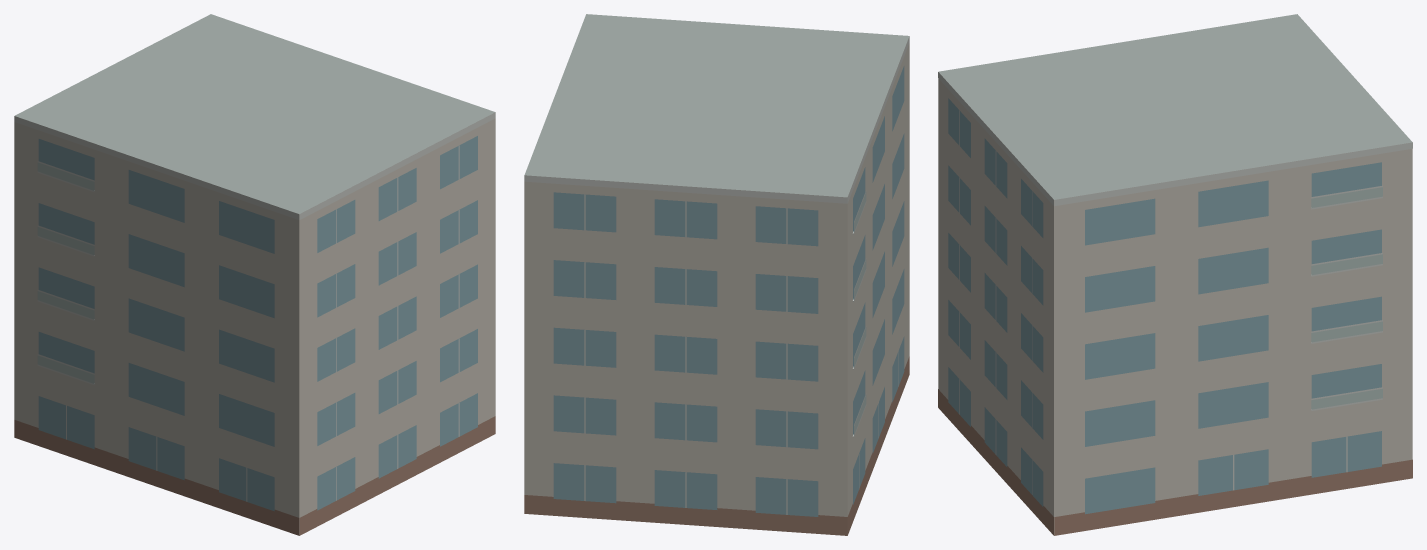
Rendered from survey-upis-32842352.glb.
3 views of the same model, side by side, from view 1: azimuth 30°, elevation 25°; view 2: azimuth 150°, elevation 25°; view 3: azimuth 270°, elevation 25° (orthographic). The views are drawn at different scales.
Parts seen in each view (by area): view 1: survey-upis-32842352.tmp; view 2: survey-upis-32842352.tmp; view 3: survey-upis-32842352.tmp.
Part boxes in pixels (x1,y1,x2,y2): survey-upis-32842352.tmp: [14, 14, 495, 535]; survey-upis-32842352.tmp: [524, 14, 909, 535]; survey-upis-32842352.tmp: [938, 14, 1412, 535].
Bounding box in the file's own units: 15.38 × 12.95 × 16.59.
